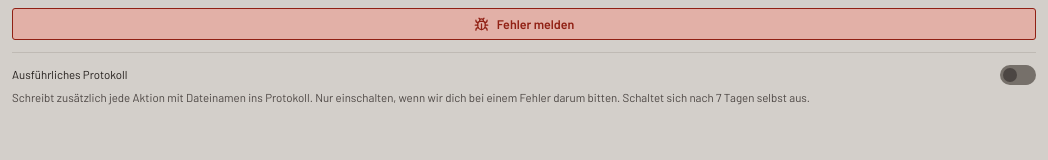
Test: DiagnosticsSettings states › keeps the confirmed state and reports a failed save
Click the switch. click: (1018,75)
box: [1000,65,1036,85]
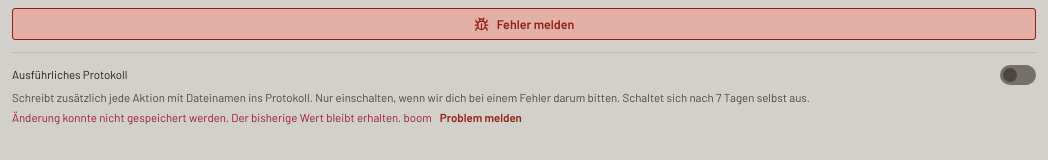
Now the message shows "Änderung konnte nicht gespeichert werden. Der bisherige Wert bleibt erhalten.", box [12,110,401,124]
